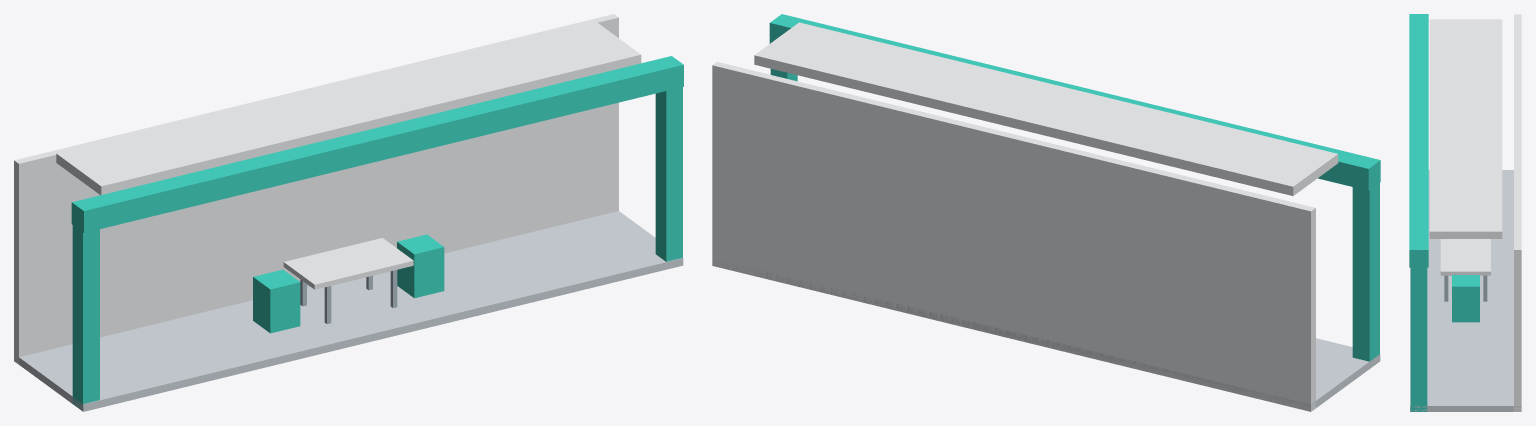
3 renders of one model, left to right at view 1: azimuth 30°, elevation 25°; view 2: azimuth 150°, elevation 25°; view 3: azimuth 270°, elevation 25°, orthographic. The views are drawn at different scales.
Visible parts, largest first — view 1: Exhibition Booth Concept; view 2: Exhibition Booth Concept; view 3: Exhibition Booth Concept.
Part boxes in pixels (left/top/right/bottom): Exhibition Booth Concept: left=14, top=14, right=683, bottom=411; Exhibition Booth Concept: left=712, top=14, right=1380, bottom=411; Exhibition Booth Concept: left=1409, top=14, right=1521, bottom=411.
Bounding box in the file's own units: 10 × 3.34 × 2.01.
